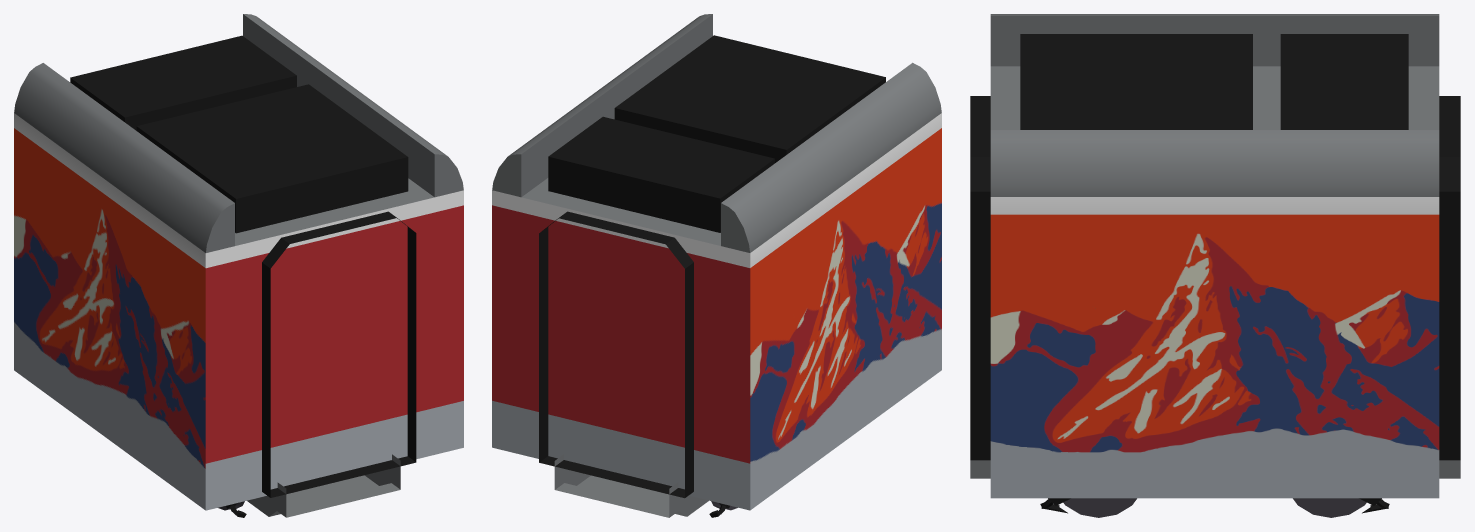
Rendered from delfin2.glb.
The picture shows the model from 3 angles, left to right: view 1: azimuth 30°, elevation 25°; view 2: azimuth 150°, elevation 25°; view 3: azimuth 270°, elevation 25°; orthographic projection. The views are drawn at different scales.
Parts seen in each view (by area): view 1: Mittelwagen; view 2: Mittelwagen; view 3: Mittelwagen, Rad_2.
Part boxes in pixels (box(x1,y1,x2,y2)): Mittelwagen: box(14, 14, 463, 517); Mittelwagen: box(492, 14, 941, 517); Mittelwagen: box(970, 14, 1460, 513); Rad_2: box(1063, 498, 1366, 517).
Size of the model in its own units: 3 by 3.85 by 4.22.
Materials: 7 (1 with a texture image).
